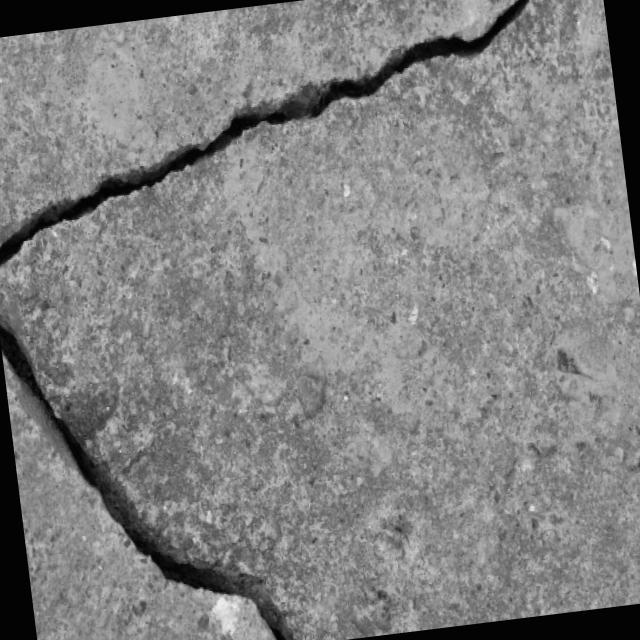crack: (0, 0, 592, 275), (0, 284, 298, 640)
